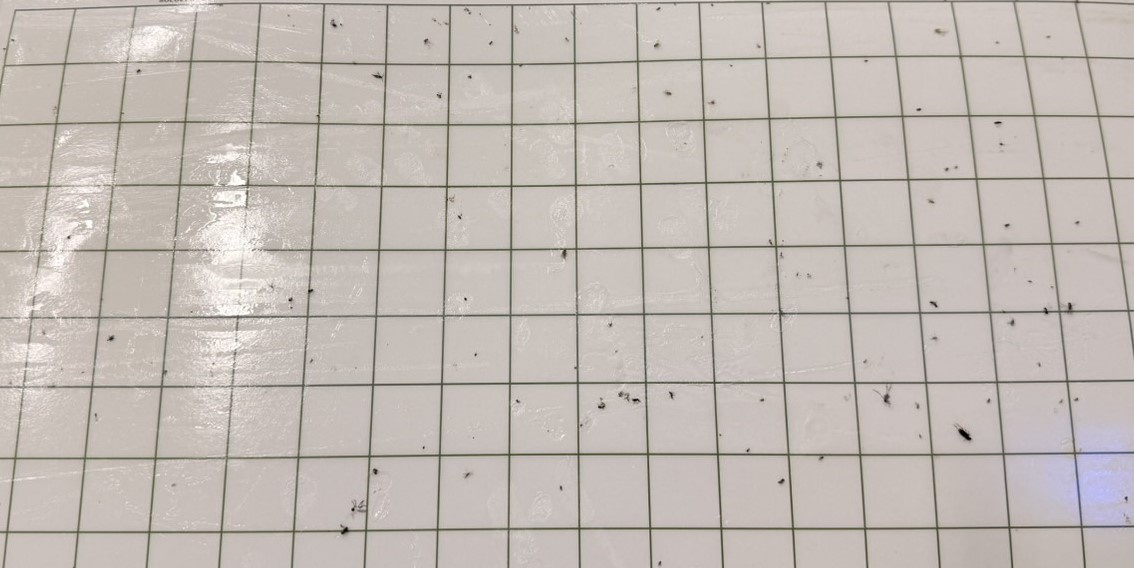test: (954, 422, 974, 443), (876, 390, 897, 406), (349, 499, 367, 515), (614, 388, 631, 403), (337, 522, 351, 537), (1064, 301, 1077, 314), (593, 401, 608, 412), (373, 70, 385, 83), (560, 248, 571, 261), (329, 18, 341, 29), (776, 475, 787, 487), (929, 298, 940, 309), (632, 396, 643, 407), (1041, 305, 1051, 317), (460, 6, 472, 16), (665, 390, 677, 400), (927, 198, 938, 208), (814, 160, 825, 170), (651, 40, 662, 50), (461, 471, 472, 481), (992, 119, 1004, 128), (934, 27, 946, 36), (776, 308, 788, 317), (1007, 318, 1017, 328), (134, 66, 144, 76), (913, 105, 924, 114), (423, 37, 432, 47), (161, 367, 170, 377), (606, 319, 615, 329), (168, 481, 179, 489), (435, 91, 444, 100), (107, 333, 116, 342), (656, 558, 665, 567), (860, 57, 870, 65), (664, 90, 674, 98), (40, 329, 50, 337), (930, 334, 939, 342), (563, 36, 572, 44), (64, 233, 73, 241), (456, 213, 465, 221), (462, 294, 471, 302), (757, 396, 766, 404), (371, 467, 380, 475), (1045, 33, 1053, 41), (708, 97, 716, 105), (314, 112, 322, 120), (286, 295, 294, 303), (755, 43, 764, 50), (999, 141, 1006, 150), (768, 237, 775, 246), (777, 251, 786, 258), (994, 38, 1001, 46), (817, 455, 825, 462), (1074, 219, 1082, 226), (513, 26, 520, 34), (10, 37, 18, 44), (93, 411, 100, 419), (307, 287, 315, 294), (268, 283, 276, 290), (288, 304, 296, 311), (844, 294, 852, 301), (805, 272, 812, 280), (514, 397, 522, 404), (578, 421, 586, 428), (745, 446, 752, 454), (917, 432, 924, 439), (1073, 395, 1080, 402), (557, 484, 564, 491), (915, 402, 921, 410), (986, 397, 992, 405), (1124, 494, 1130, 502), (517, 63, 525, 69), (466, 74, 474, 80), (472, 351, 480, 357), (351, 59, 357, 67), (1004, 222, 1010, 229), (943, 167, 950, 173), (1036, 361, 1043, 367), (1027, 278, 1033, 285), (1049, 284, 1056, 290), (862, 358, 869, 364), (488, 40, 494, 47), (573, 364, 579, 371), (794, 271, 800, 278), (717, 431, 724, 437), (421, 444, 427, 451), (953, 165, 959, 171), (655, 6, 661, 12), (80, 369, 86, 375), (309, 357, 315, 363), (1058, 398, 1063, 405), (766, 0, 771, 7), (728, 63, 734, 68), (710, 2, 715, 8), (59, 366, 65, 371), (613, 348, 619, 353), (287, 13, 291, 18), (291, 23, 296, 27), (472, 435, 476, 440)
